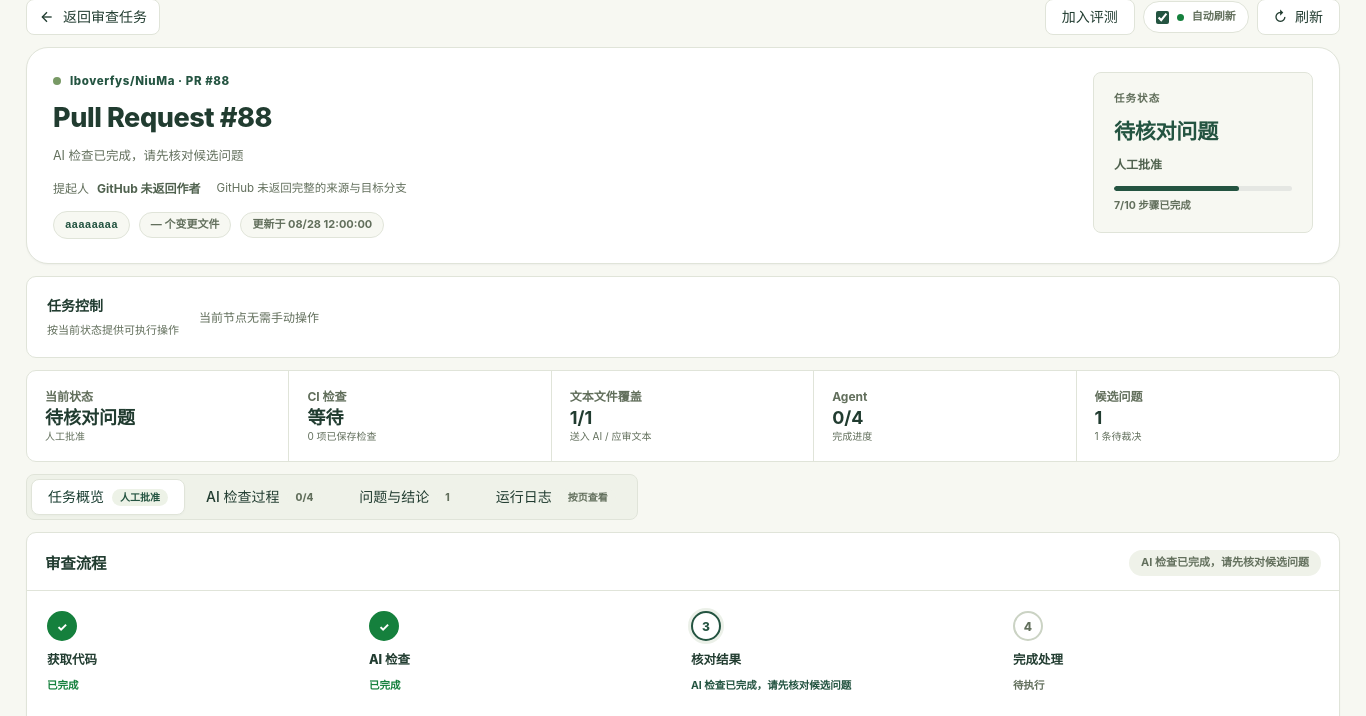
Test: 真实保存失败仍显示错误，且不把未保存的裁决显示为成功
Click the button "问题与结论 1".
click(408, 497)  # box [342,479,475,515]
(page scrolled)
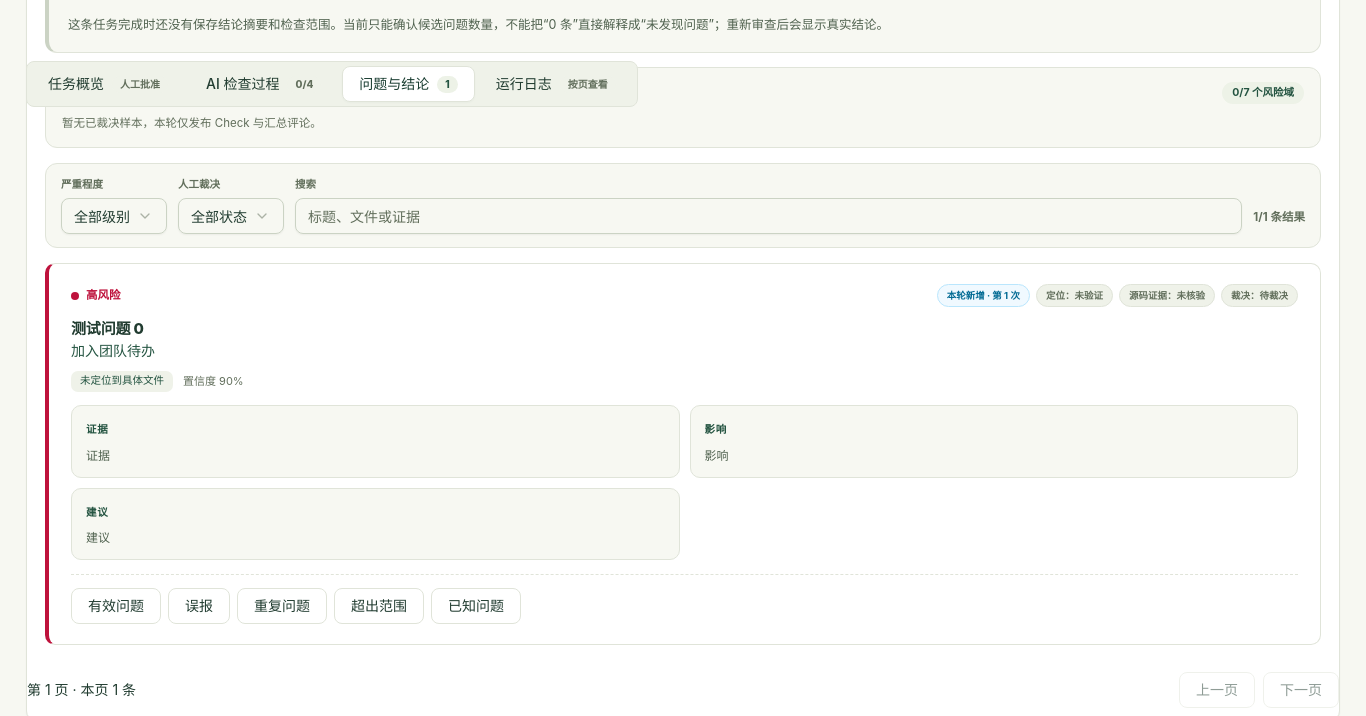
Expected: the button "有效问题" is shown
Click the button "有效问题".
click(116, 606)  # box [71,588,161,624]
(page scrolled)
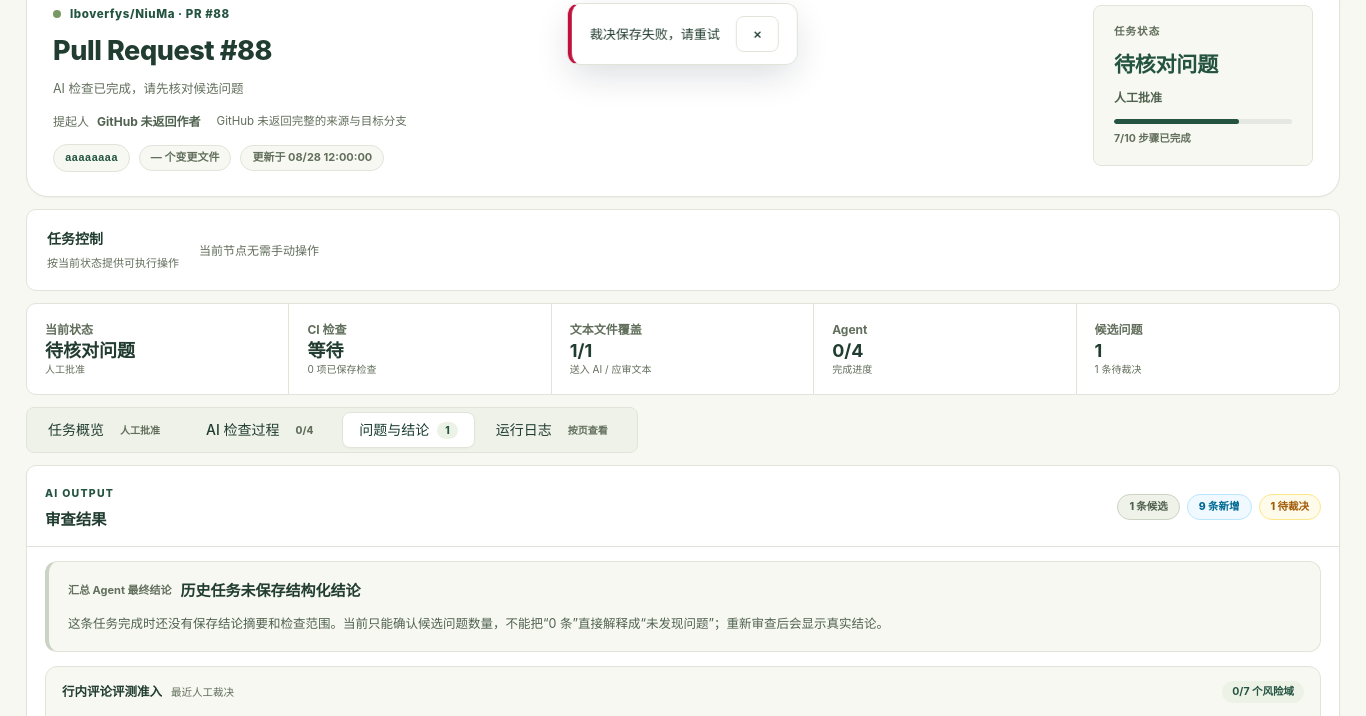
Expected: the text "1 条待裁决" is shown, [1095,363,1143,376]
Expected: the message shows "裁决保存失败，请重试", [590,26,720,42]
